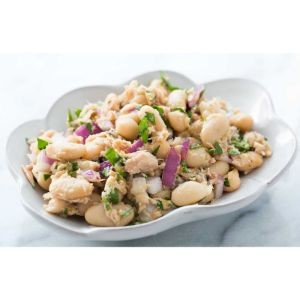tuna_brain food: (30, 77, 245, 225)
